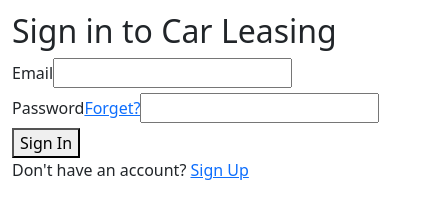
Test case: <Login /> › shows error message on failed login
This screenshot has width=421, height=221.
Type "wrong@example.com" into the field labelled "Email".
click(173, 73); type("wrong@example.com")  # box [53,58,292,88]
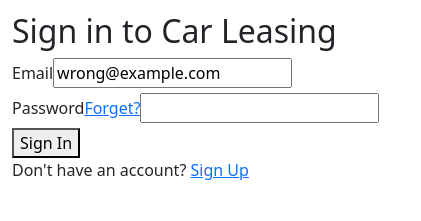
Type "wrongpass" into the password field labelled "Password Forget?".
click(260, 108); type("wrongpass")  # box [140,93,379,123]
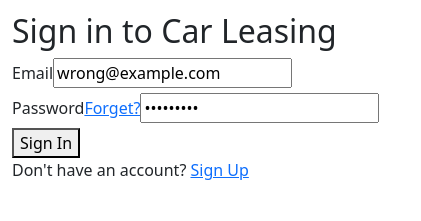
Click the button "Sign In".
click(46, 143)  # box [12,128,80,158]
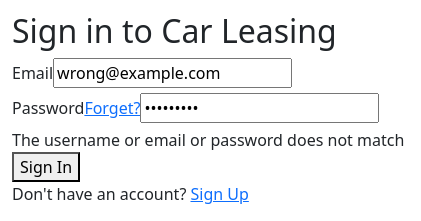
Now the text "The username or email or password does not match" is shown, box [12,129,404,151]
